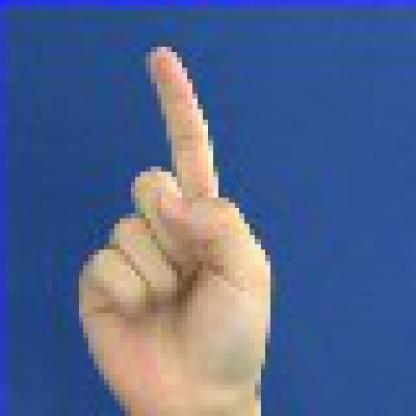one: (68, 26, 286, 411)
